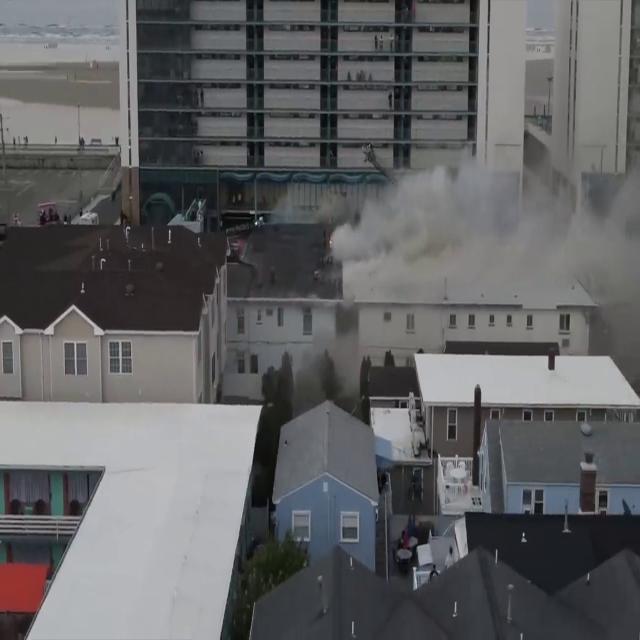Smoke: (330, 136, 640, 380)
